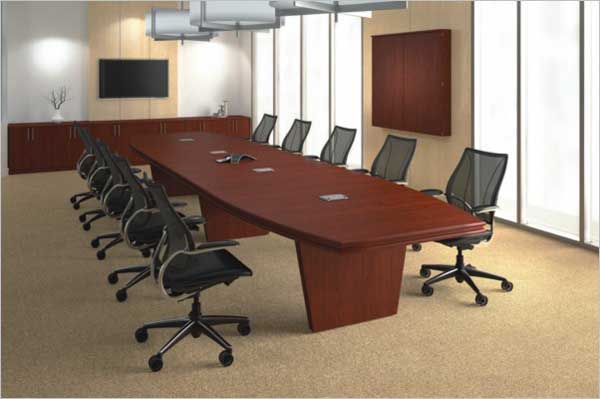conference_table: (132, 130, 485, 333)
